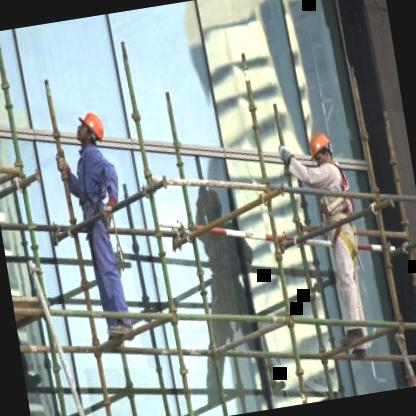helmet: (304, 130, 336, 171), (76, 108, 108, 148)
